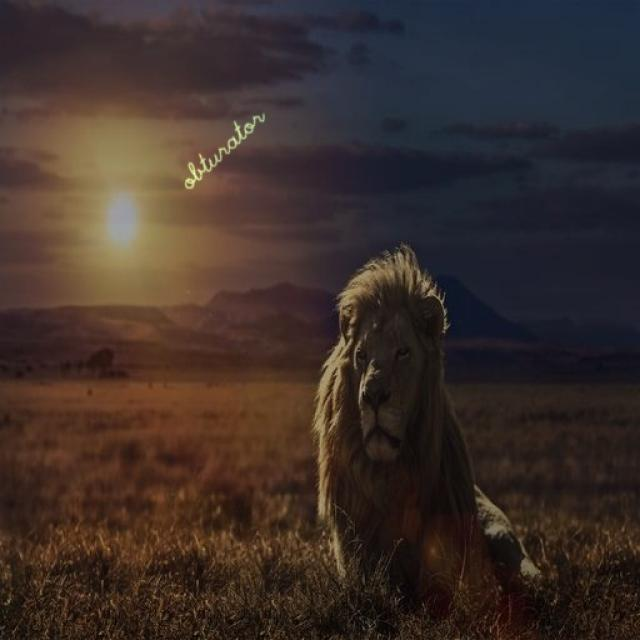watermark: (182, 95, 265, 194)
